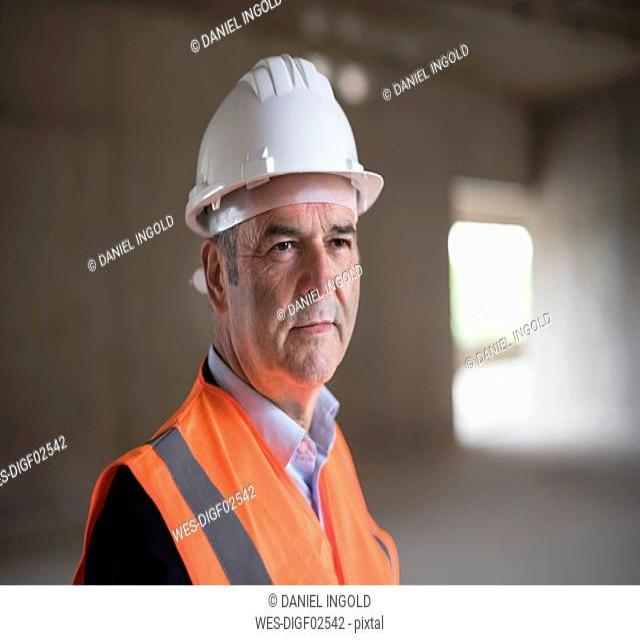helmet: (182, 47, 385, 246)
no-goggles: (239, 210, 382, 274)
vest: (72, 350, 402, 586)
